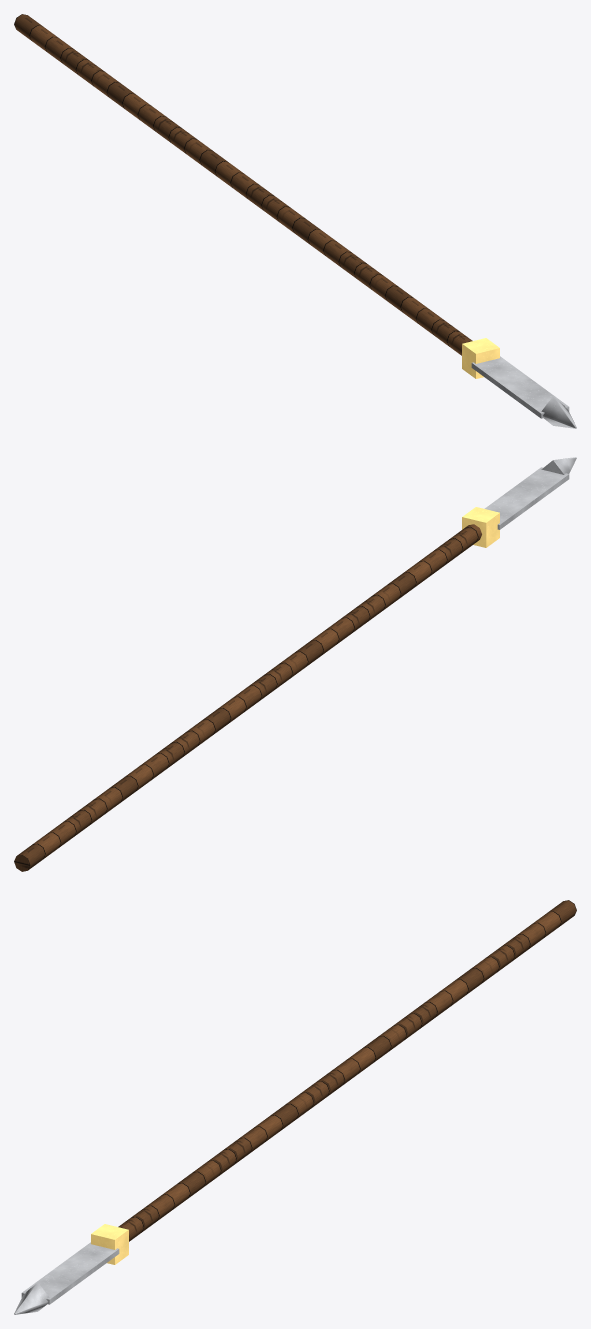
File: spear.glb
The picture shows the model from 3 angles, top to bottom: view 1: azimuth 30°, elevation 25°; view 2: azimuth 150°, elevation 25°; view 3: azimuth 330°, elevation 25°; orthographic projection.
Visible parts, largest first — view 1: spear; view 2: spear; view 3: spear.
Boxes of the visible parts, x1,y1,x2,y2 form: spear: (14,14,576,428); spear: (14,457,576,871); spear: (14,900,576,1314).
Size of the model in its own units: 0.07 by 0.07 by 2.39.
Materials: 3 (3 with a texture image).
